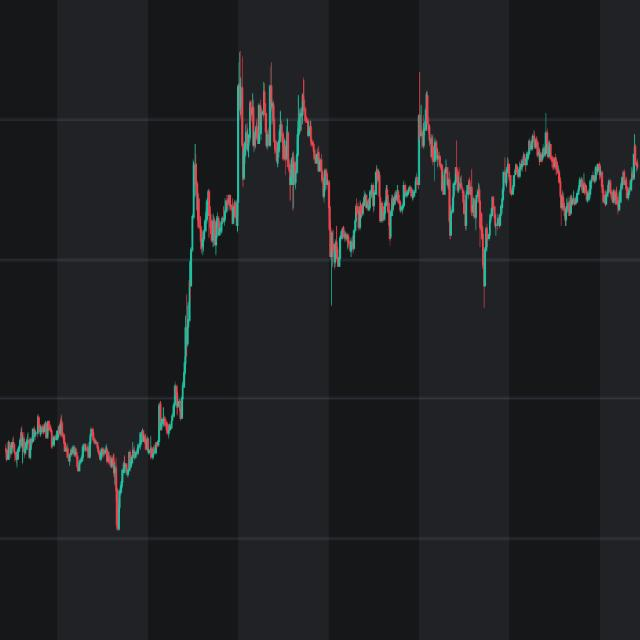Resistance-Emerging: (415, 80, 640, 301)
Resistance-breakout: (123, 135, 232, 532), (376, 84, 438, 247)
